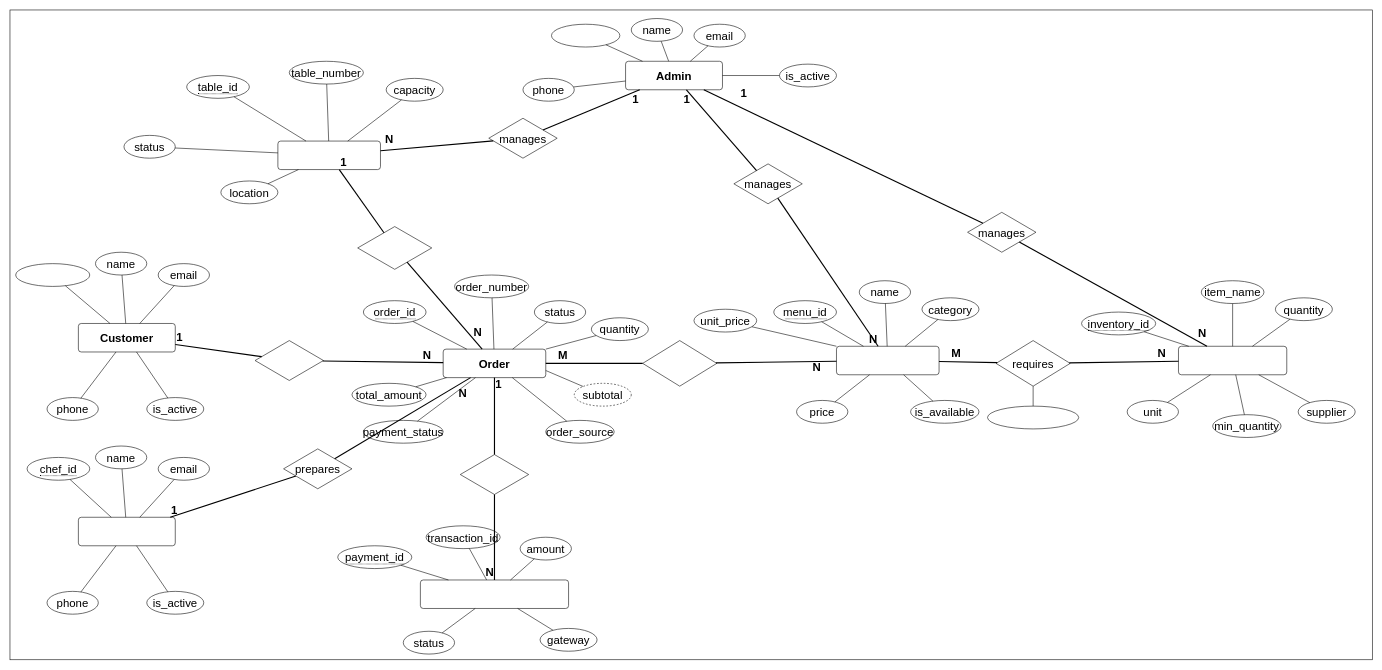
Image size: 1382x670. Some labels were removed from this diagram. Here are the shapes that lost their labels. From the top down, the centre of each, then its label:
pixel 585 35: admin_id
pixel 328 155: Dining Table
pixel 394 247: assigned to
pixel 52 274: customer_id
pixel 289 360: places
pixel 679 363: contains
pixel 887 360: Menu Item
pixel 1232 360: Inventory Item
pixel 1033 417: quantity_per_dish
pixel 494 474: paid by
pixel 126 531: Chef
pixel 494 593: Payment Transaction
